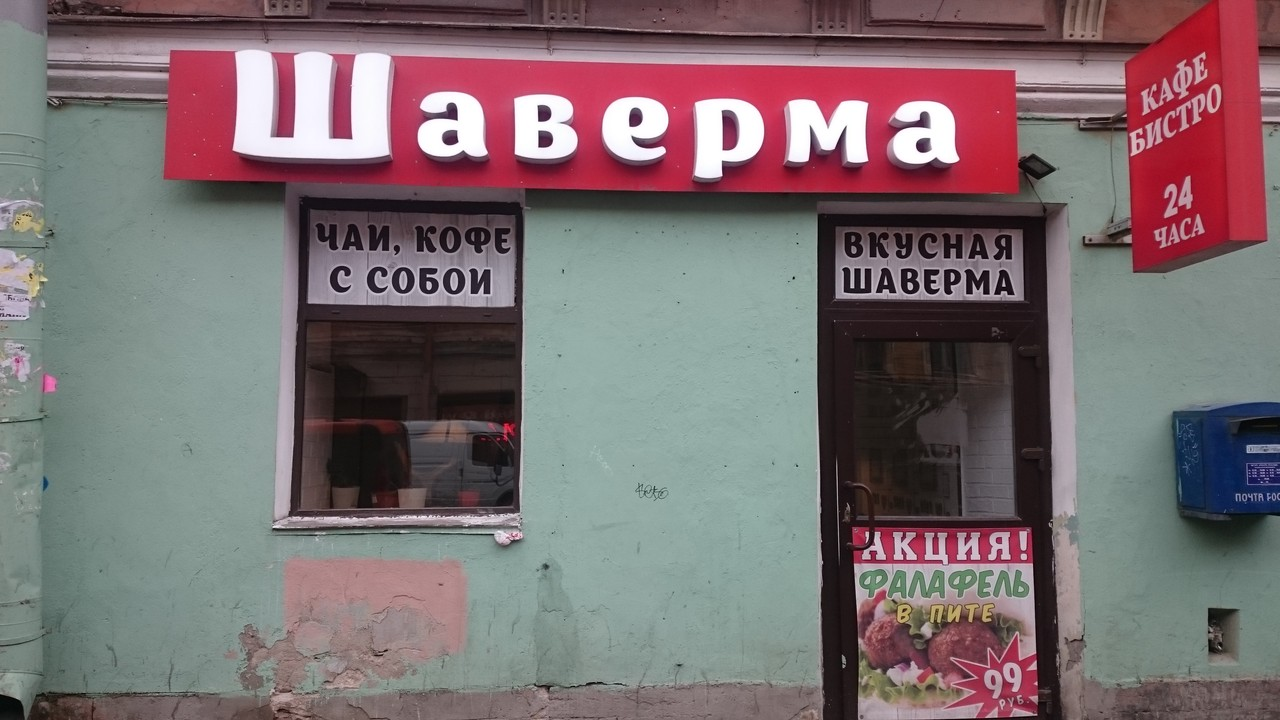cantilever: (1083, 1, 1260, 272)
door: (835, 321, 1050, 720)
signboard: (162, 50, 1025, 195)
window: (292, 203, 520, 514)
